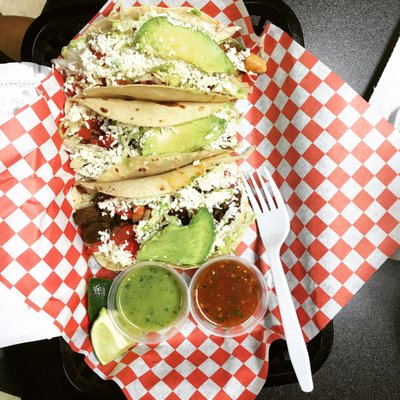soup: (51, 1, 266, 186)
sushi: (91, 262, 191, 367), (104, 261, 190, 346), (188, 256, 267, 337)
